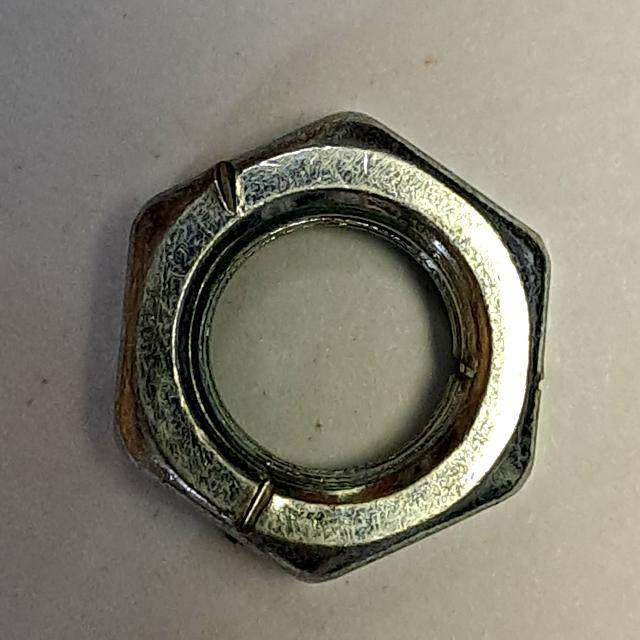Scratches: (104, 102, 561, 595)
